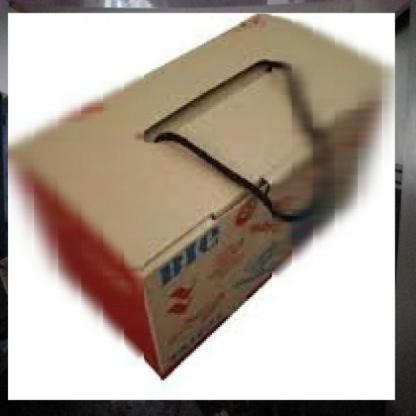box: (2, 8, 400, 406)
